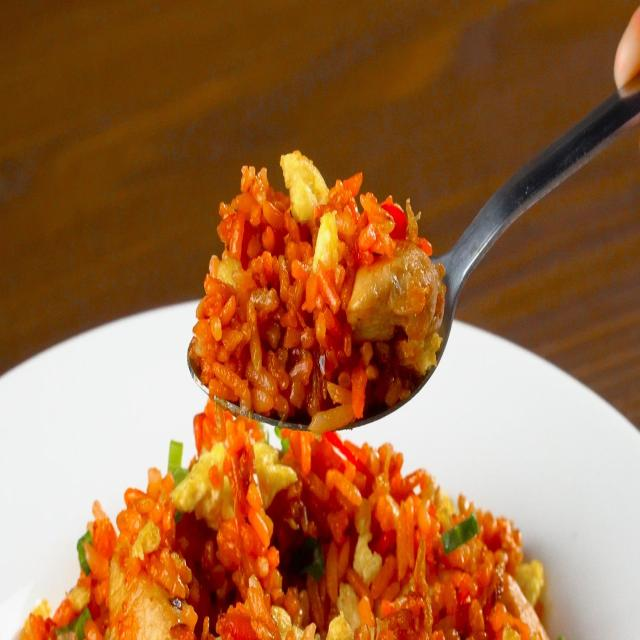Nasi Goreng: (190, 147, 447, 432)
